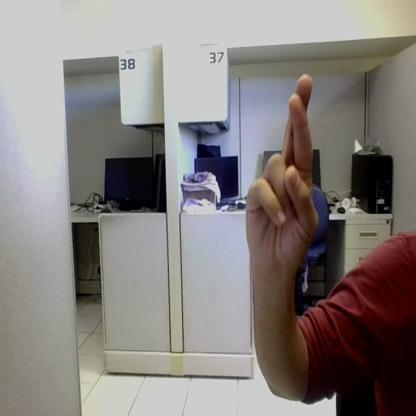R: (246, 73, 318, 256)
